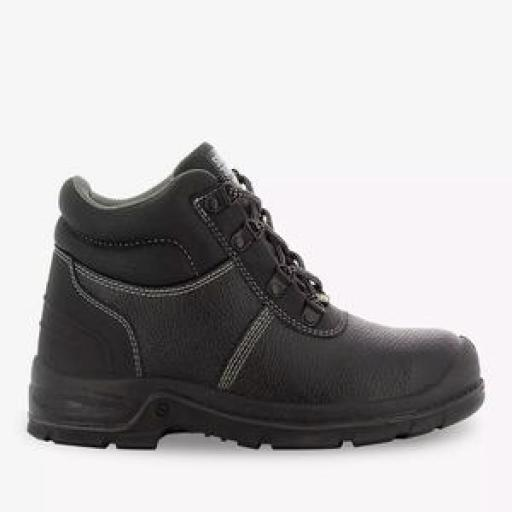safety_boots: (19, 156, 493, 458)
